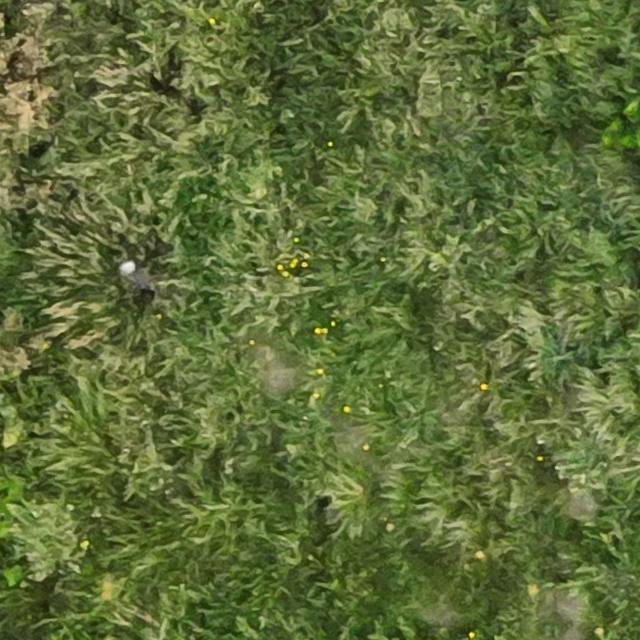umineko: (122, 263, 149, 290)
